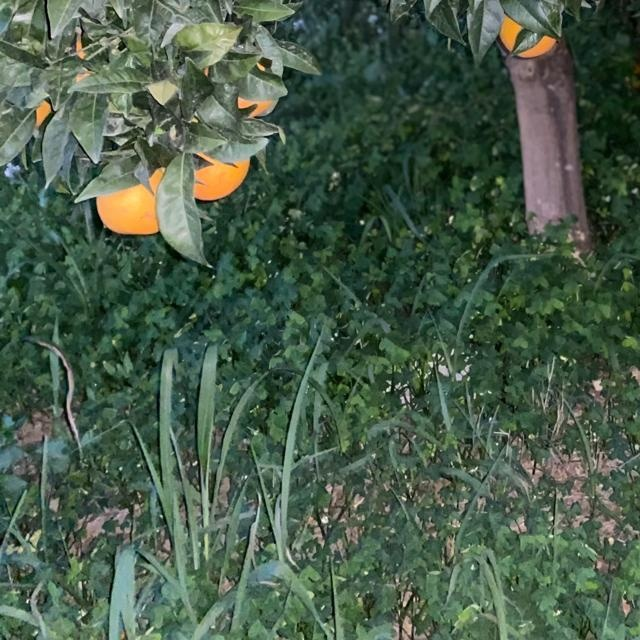orange: (199, 48, 277, 124), (92, 169, 168, 237), (177, 147, 253, 199), (498, 12, 560, 56)
